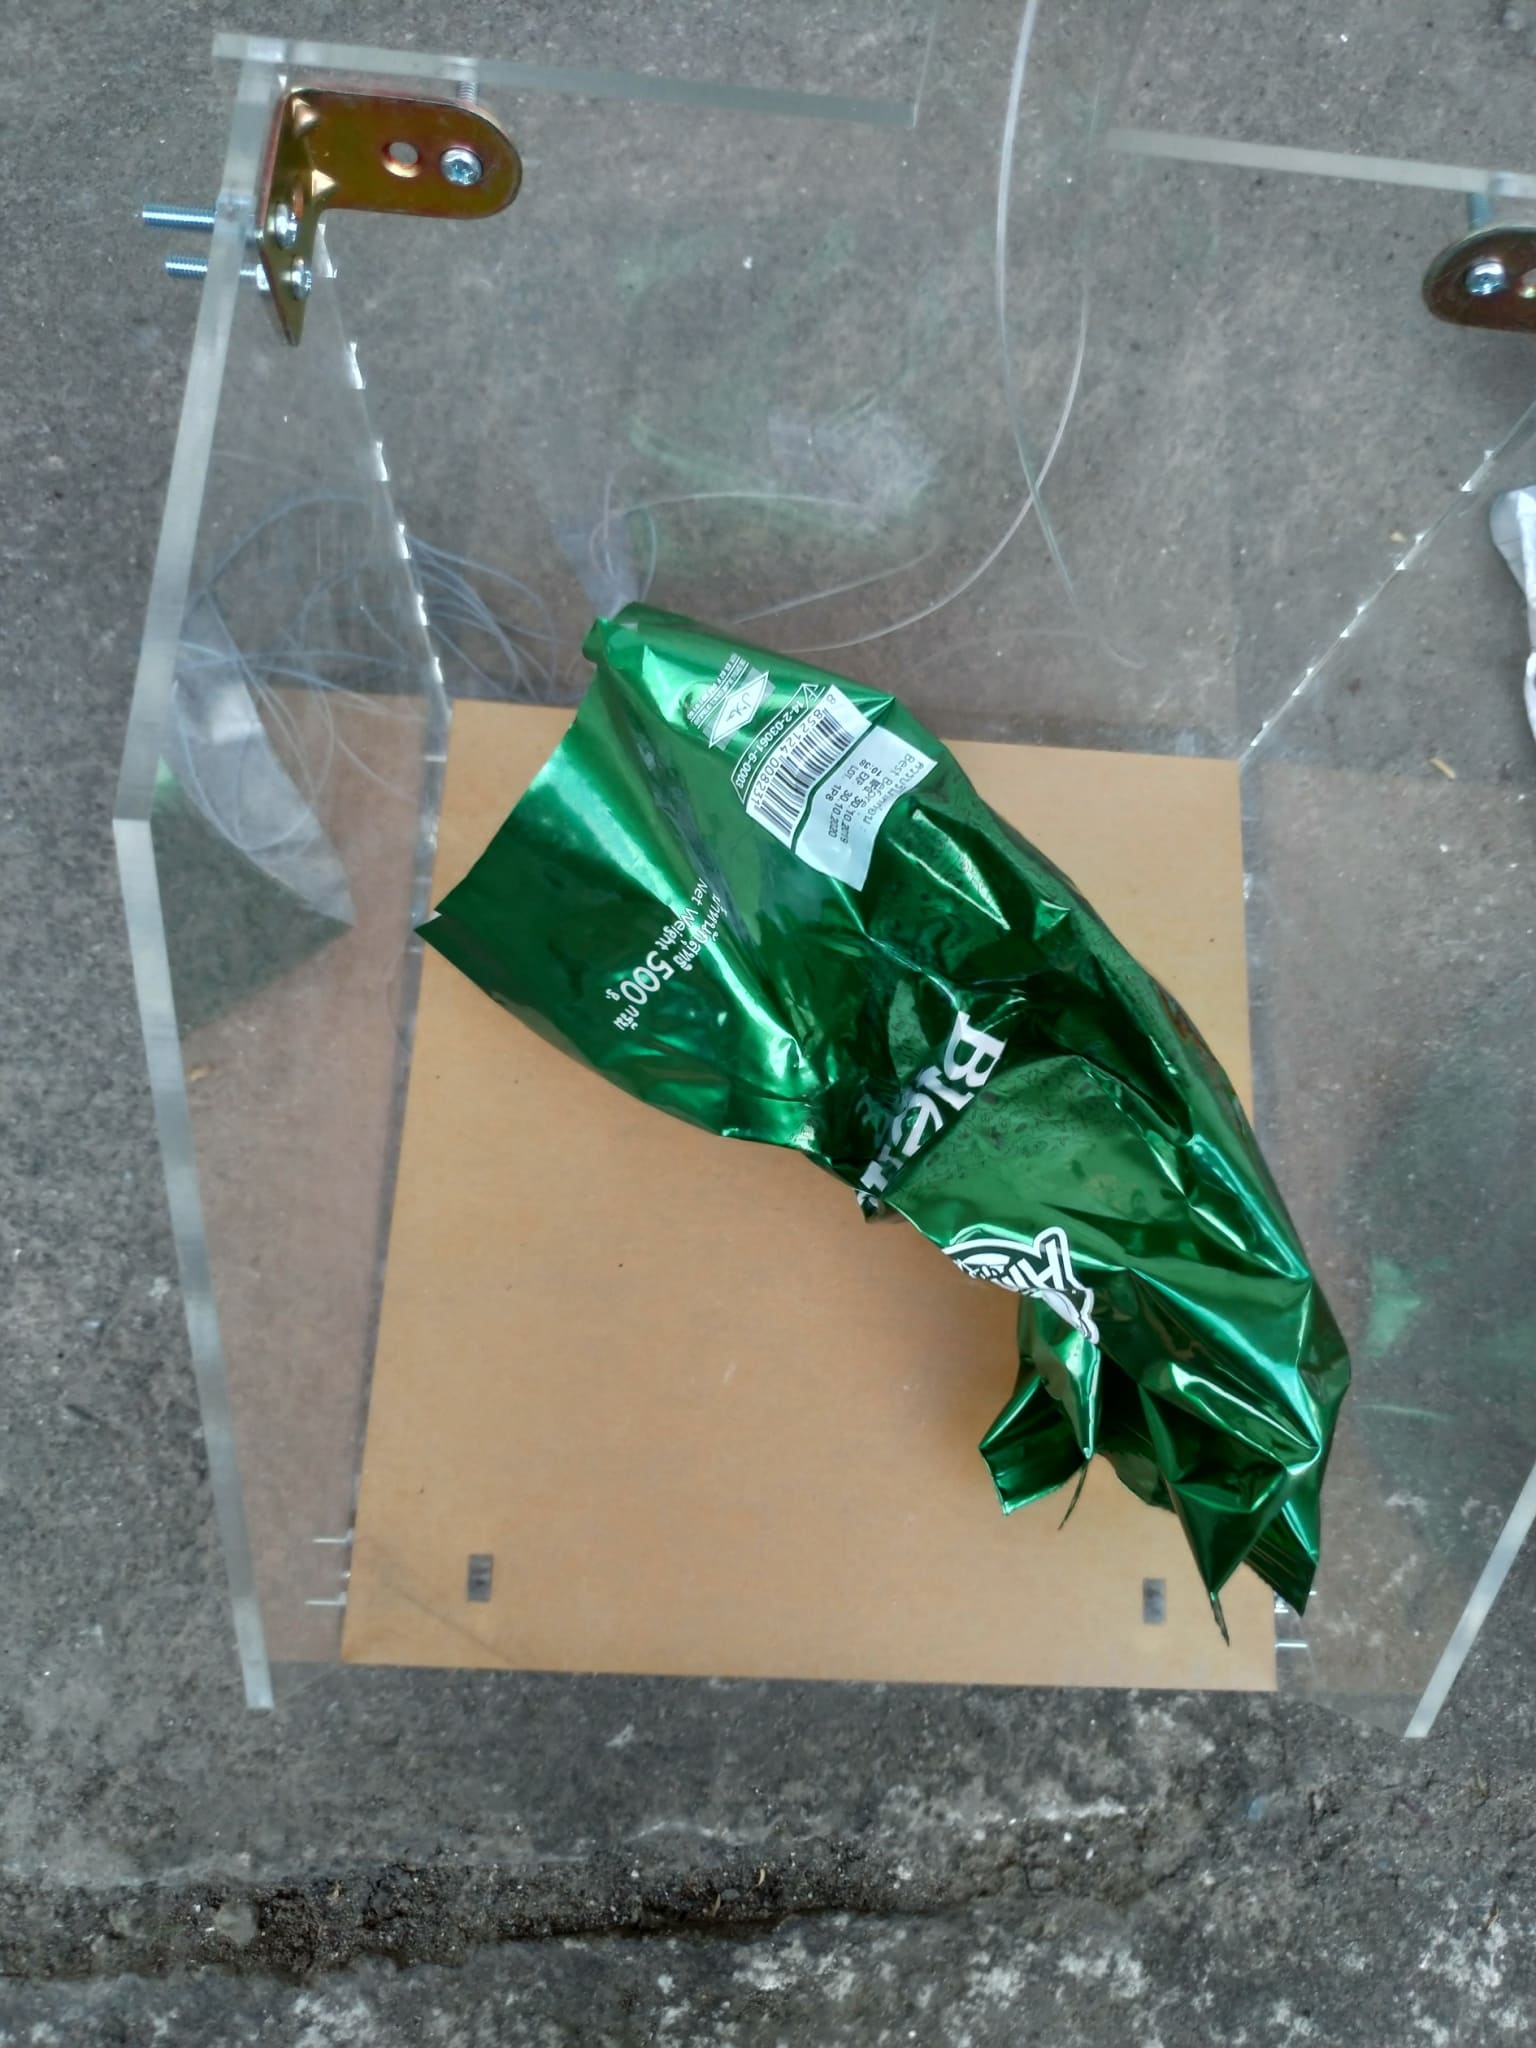Others: (432, 611, 1354, 1627)
